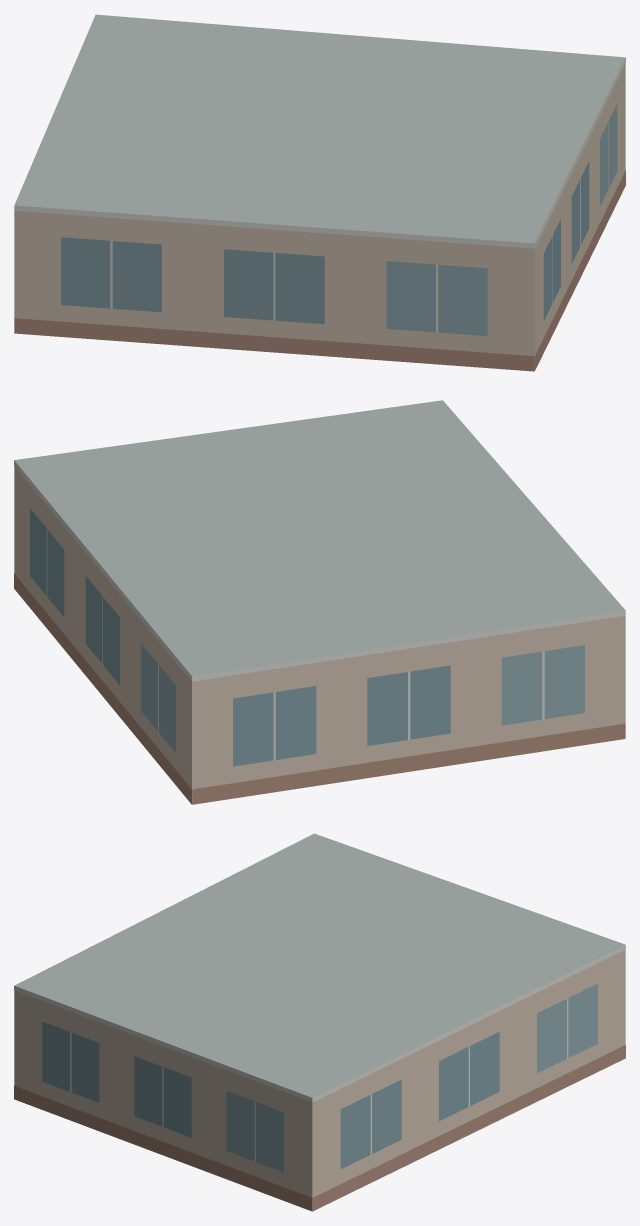
File: survey-upis-33018108.glb
3 views of the same model, one above another, from view 1: azimuth 30°, elevation 25°; view 2: azimuth 150°, elevation 25°; view 3: azimuth 270°, elevation 25° (orthographic). The views are drawn at different scales.
Visible parts, largest first — view 1: survey-upis-33018108.tmp; view 2: survey-upis-33018108.tmp; view 3: survey-upis-33018108.tmp.
Boxes of the visible parts, left/top/right/bottom form: survey-upis-33018108.tmp: left=14, top=14, right=625, bottom=371; survey-upis-33018108.tmp: left=14, top=400, right=625, bottom=804; survey-upis-33018108.tmp: left=14, top=833, right=625, bottom=1211.
Size of the model in its own units: 15.24 by 3.05 by 14.89.
